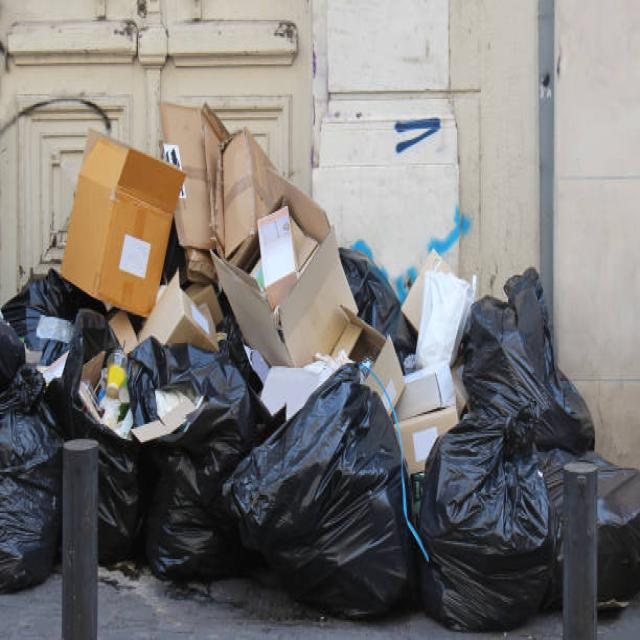garbage: (0, 112, 630, 586)
